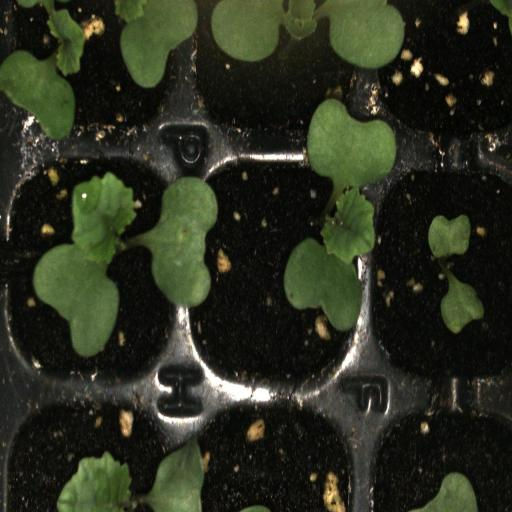Folha: (284, 97, 399, 332), (0, 0, 85, 142), (134, 175, 218, 309), (56, 436, 204, 512), (441, 277, 484, 334), (417, 472, 478, 512), (428, 214, 471, 258)
Germinacao: (2, 136, 189, 394), (182, 144, 370, 394), (376, 142, 512, 383), (188, 0, 372, 139)
